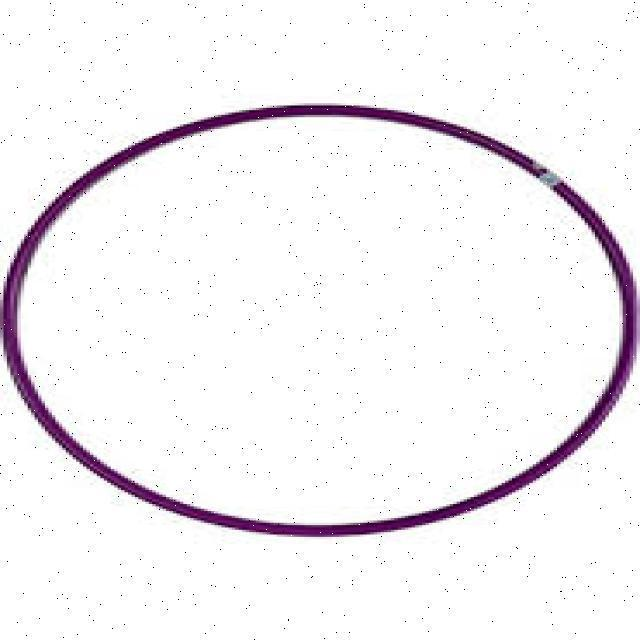Circle: (1, 102, 637, 535)
